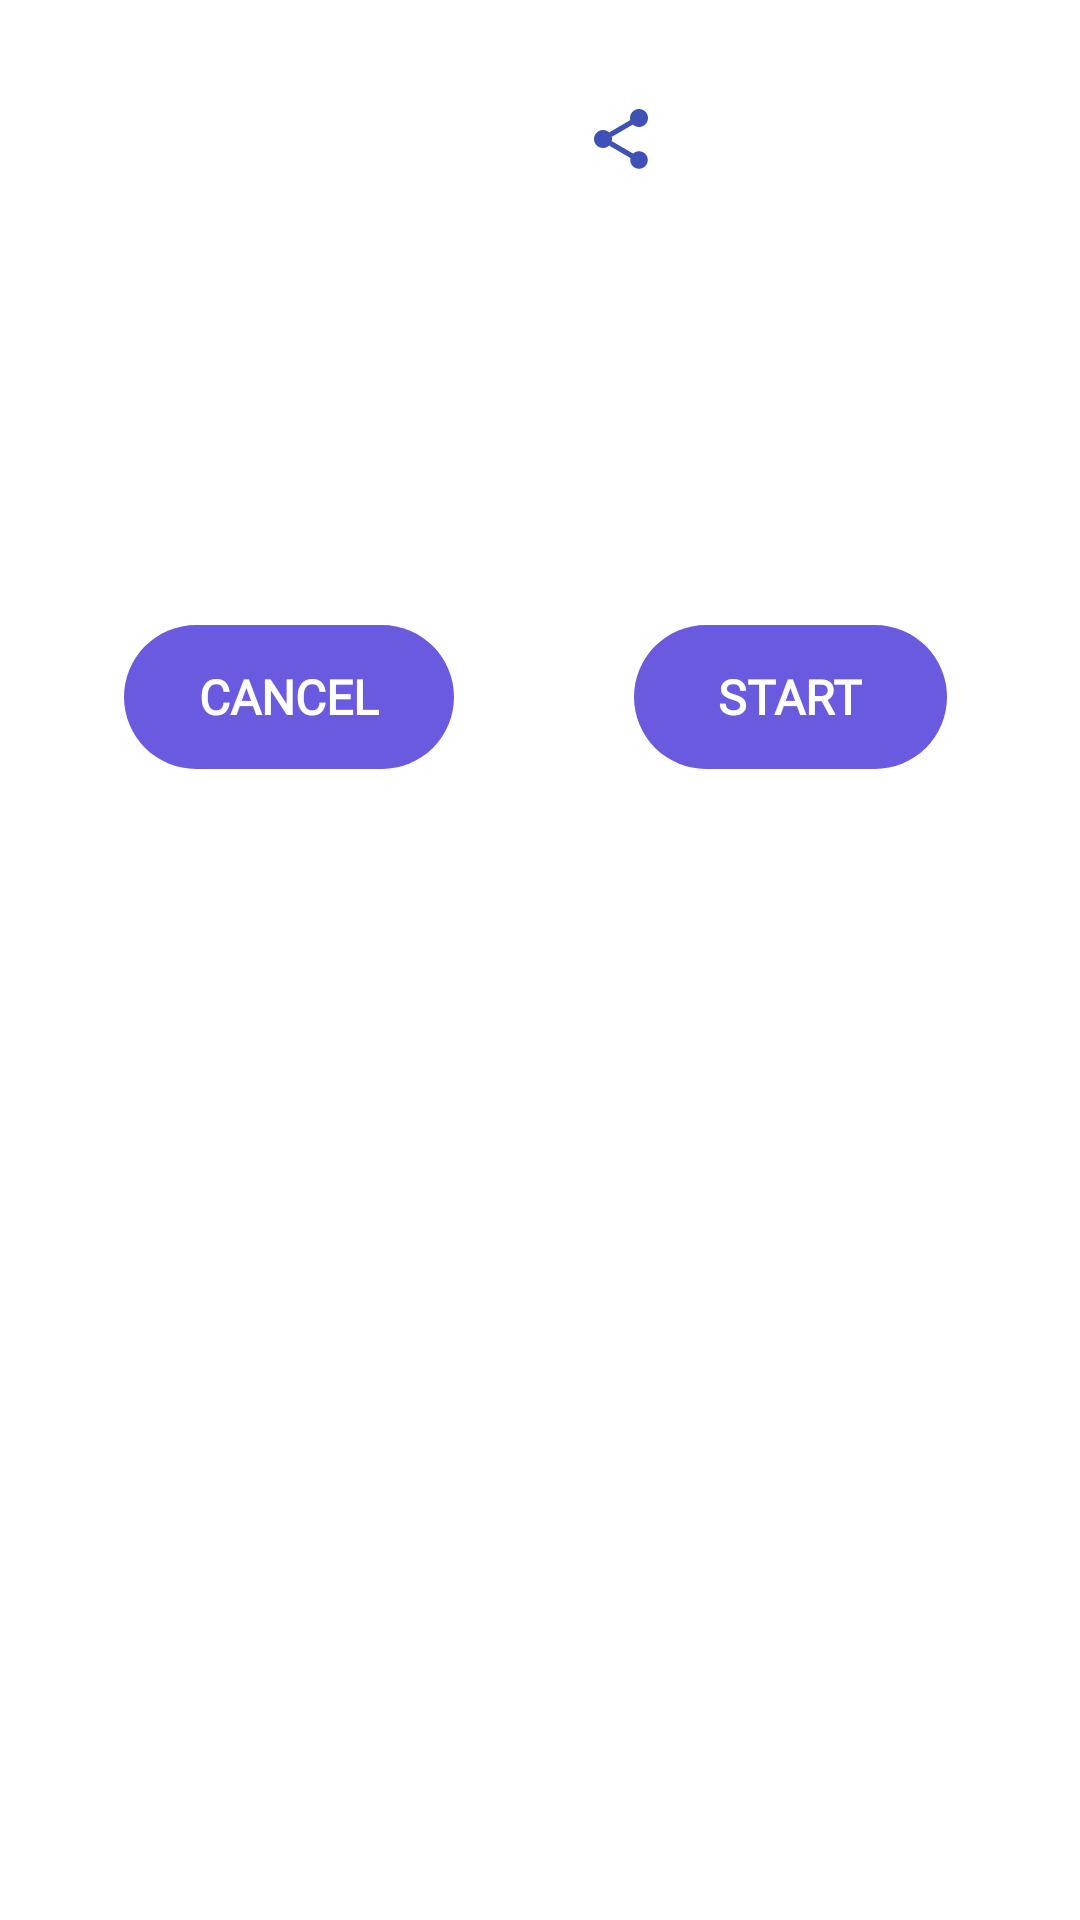

Locate icon controls on the screen. Image size 1080px x 1920px, boxes as (x1, y1, x2, y2).
share: (594, 109, 648, 169)
